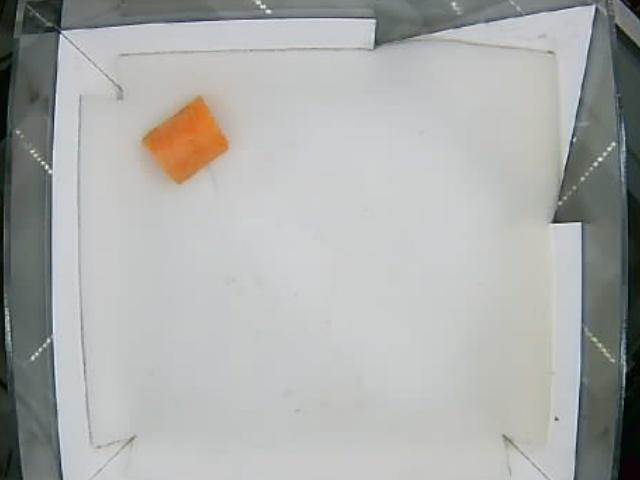Carrot: (143, 95, 227, 186)
